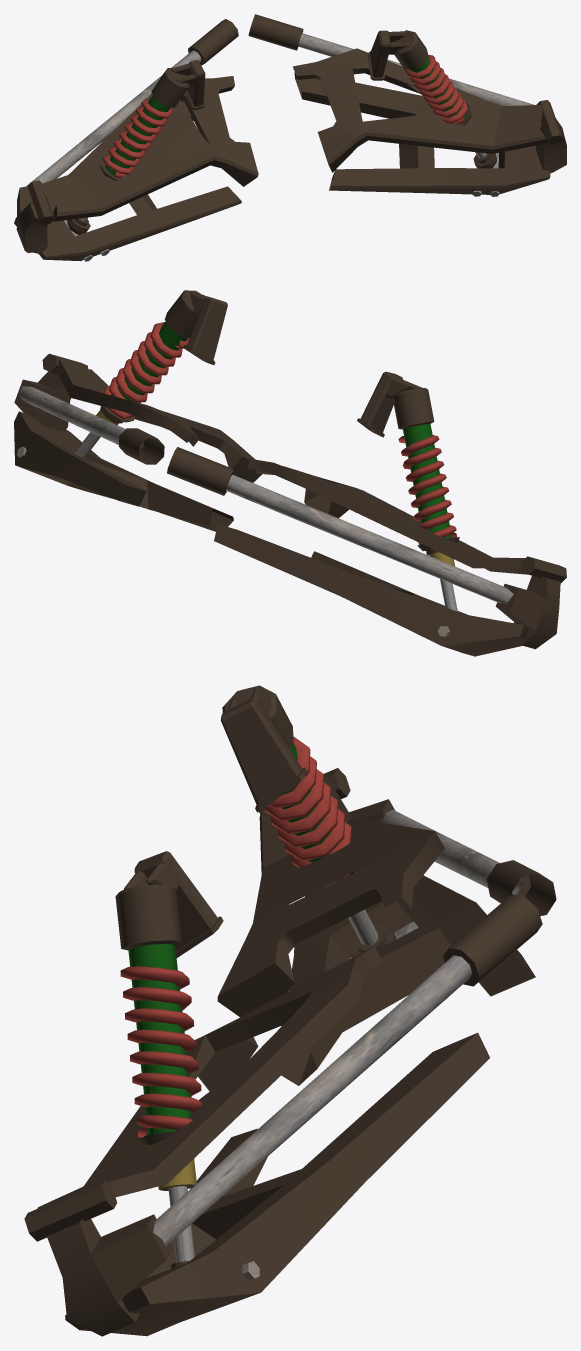
Rendered from SportSuspension.fbx.
3 views of the same model, one above another, from view 1: azimuth 30°, elevation 25°; view 2: azimuth 150°, elevation 25°; view 3: azimuth 270°, elevation 25° (orthographic). The views are drawn at different scales.
Parts seen in each view (by area): view 1: node_id379, node_id385, node_id381, node_id387; view 2: node_id379, node_id381, node_id385, node_id387; view 3: node_id379, node_id381, node_id385, node_id387.
Part boxes in pixels (x1,y1,x2,y2): node_id379: [14, 14, 566, 261]; node_id385: [102, 55, 468, 178]; node_id381: [26, 33, 533, 261]; node_id387: [105, 57, 465, 175]; node_id379: [14, 290, 566, 656]; node_id381: [16, 386, 513, 636]; node_id385: [103, 322, 457, 544]; node_id387: [111, 321, 452, 538]; node_id379: [24, 685, 556, 1336]; node_id381: [153, 810, 522, 1280]; node_id385: [120, 736, 352, 1137]; node_id387: [128, 744, 332, 1135].
Bounding box in the file's own units: 0.5065 × 0.198 × 0.2398.
Materials: 5 (5 with a texture image).
